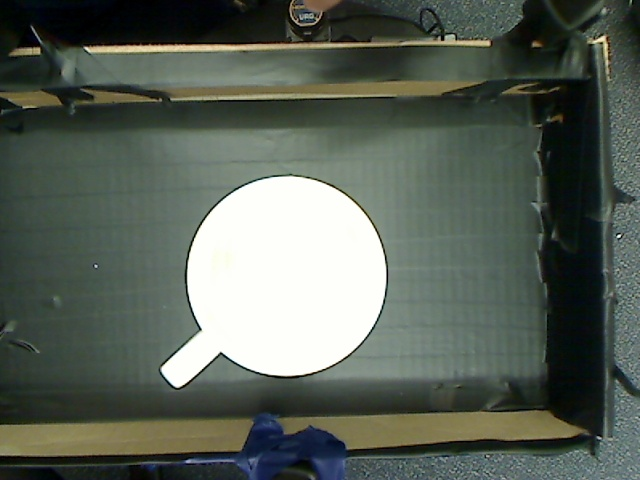mug: (140, 167, 411, 408)
